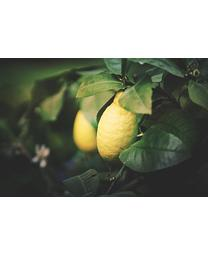lemon: (94, 92, 138, 156)
